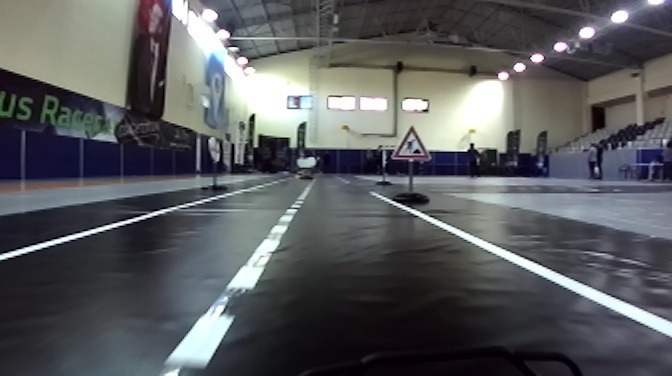yol_yapimi: (387, 125, 430, 163)
